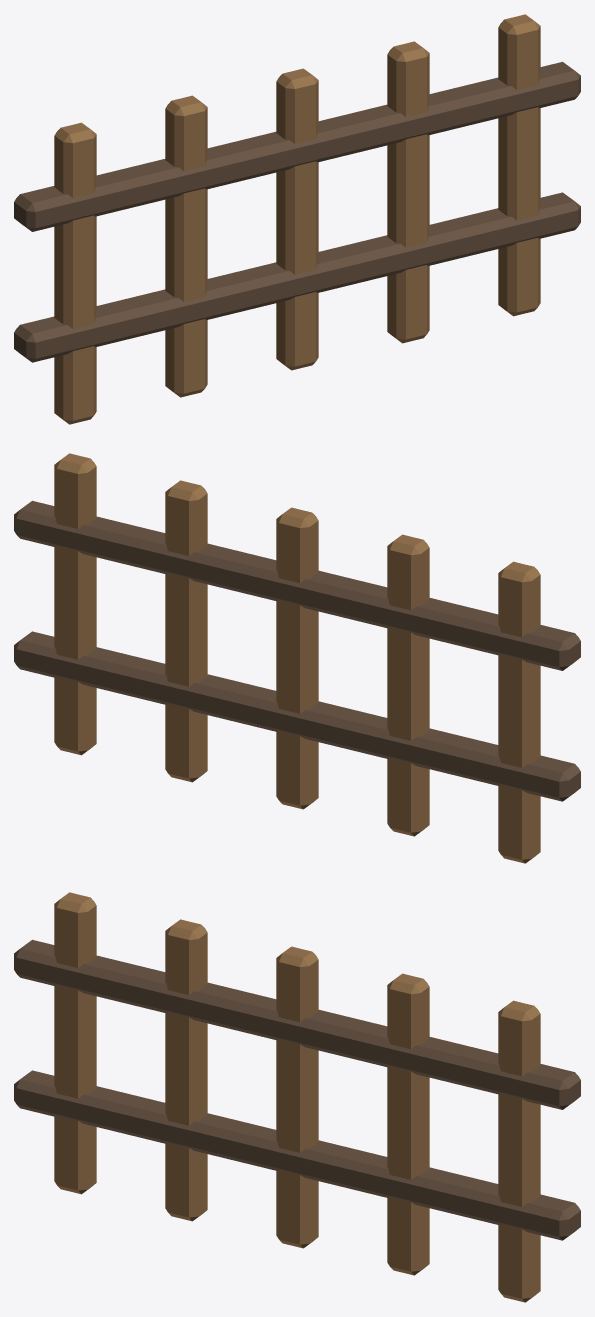
Rendered from architecture-city-fence.lod0.glb.
3 views of the same model, one above another, from view 1: azimuth 30°, elevation 25°; view 2: azimuth 150°, elevation 25°; view 3: azimuth 330°, elevation 25° (orthographic).
Visible parts, largest first — view 1: architecture-city-fence__body; view 2: architecture-city-fence__body; view 3: architecture-city-fence__body.
Part boxes in pixels (x1,y1,x2,y2): architecture-city-fence__body: (14,14,580,424); architecture-city-fence__body: (14,453,580,863); architecture-city-fence__body: (14,892,580,1302).
Bounding box in the file's own units: 2 × 1 × 0.12.
